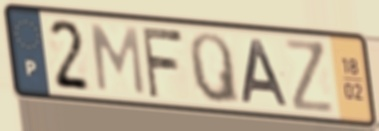2: (46, 18, 91, 95)
A: (239, 38, 292, 109)
F: (138, 24, 185, 100)
M: (88, 21, 148, 99)
Q: (187, 29, 244, 108)
Z: (282, 36, 338, 117)
